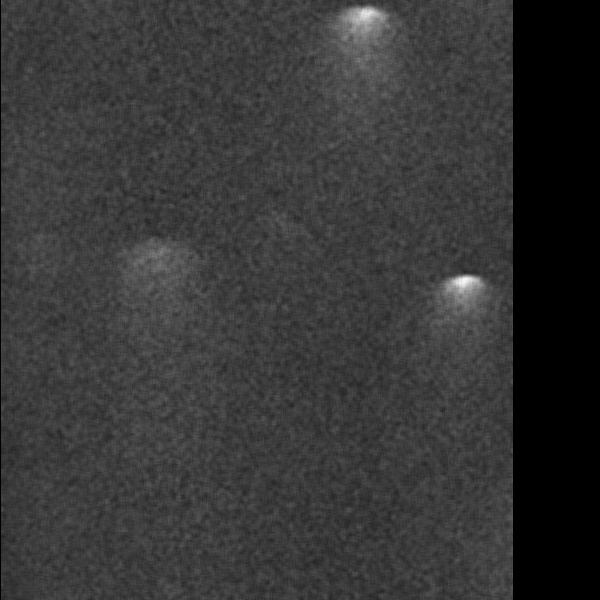spark: (42, 258, 96, 304)
